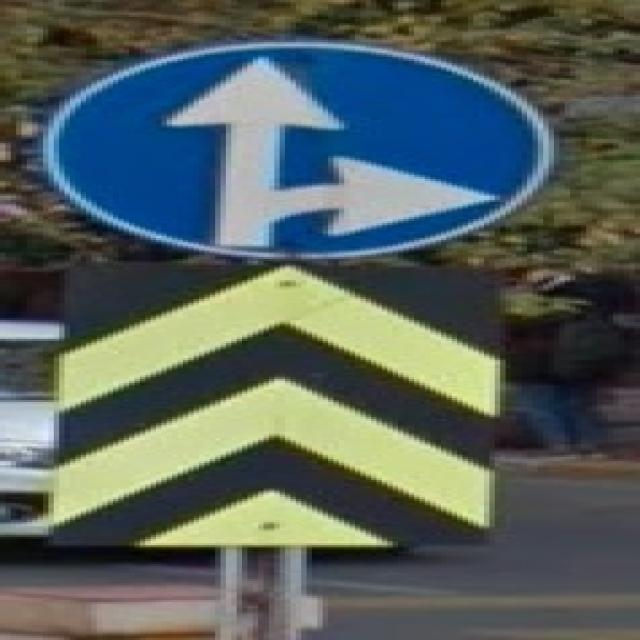Straight or Right: (47, 45, 547, 252)
